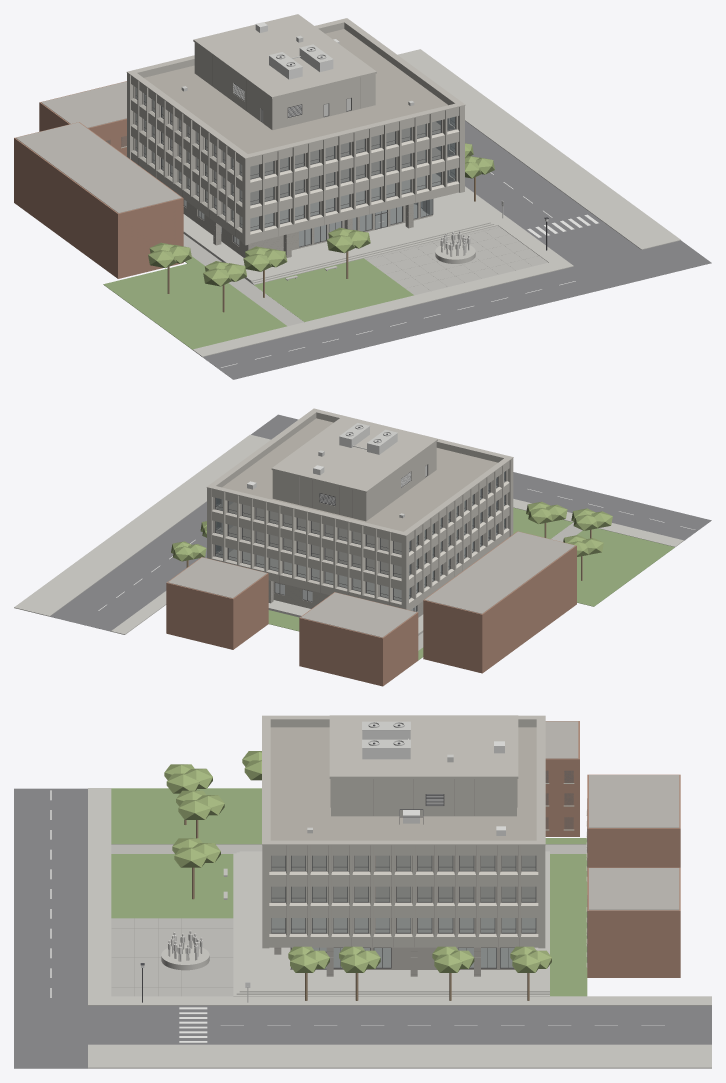
Rendered from clay-calgary-cbe-brutalist-hq-clay-v001.glb.
3 renders of one model, top to bottom at view 1: azimuth 30°, elevation 25°; view 2: azimuth 150°, elevation 25°; view 3: azimuth 270°, elevation 25°, orthographic. The views are drawn at different scales.
Parts seen in each view (by area): view 1: CLAY_PRECAST, CLAY_ASPHALT, CLAY_CONCRETE, CLAY_GRASS, CLAY_NEIGHBOUR, CLAY_ROOF, CLAY_MEMBRANE, CLAY_GLASS, CLAY_PAVING, CLAY_PLANTING, CLAY_FRAME, CLAY_FLOOR (+4 smaller); view 2: CLAY_PRECAST, CLAY_NEIGHBOUR, CLAY_ASPHALT, CLAY_MEMBRANE, CLAY_CONCRETE, CLAY_ROOF, CLAY_GRASS, CLAY_GLASS, CLAY_PLANTING, CLAY_FLOOR, CLAY_FRAME, CLAY_BOARD (+2 smaller); view 3: CLAY_PRECAST, CLAY_ASPHALT, CLAY_CONCRETE, CLAY_GRASS, CLAY_ROOF, CLAY_NEIGHBOUR, CLAY_GLASS, CLAY_MEMBRANE, CLAY_PAVING, CLAY_PLANTING, CLAY_FLOOR, CLAY_FRAME (+6 smaller).
Boxes of the visible parts, bbox=[...] form: CLAY_PRECAST: bbox=[126, 14, 465, 245]; CLAY_ASPHALT: bbox=[202, 121, 711, 379]; CLAY_CONCRETE: bbox=[183, 49, 680, 356]; CLAY_GRASS: bbox=[103, 256, 413, 349]; CLAY_NEIGHBOUR: bbox=[14, 81, 183, 278]; CLAY_ROOF: bbox=[144, 29, 447, 153]; CLAY_MEMBRANE: bbox=[16, 81, 181, 213]; CLAY_GLASS: bbox=[106, 88, 455, 246]; CLAY_PAVING: bbox=[183, 225, 547, 326]; CLAY_PLANTING: bbox=[148, 143, 494, 286]; CLAY_FRAME: bbox=[135, 83, 455, 247]; CLAY_FLOOR: bbox=[145, 101, 440, 203]; CLAY_PRECAST: bbox=[206, 408, 513, 610]; CLAY_NEIGHBOUR: bbox=[166, 531, 576, 686]; CLAY_ASPHALT: bbox=[50, 414, 711, 631]; CLAY_MEMBRANE: bbox=[168, 531, 575, 637]; CLAY_CONCRETE: bbox=[14, 434, 683, 635]; CLAY_ROOF: bbox=[222, 418, 497, 531]; CLAY_GRASS: bbox=[268, 508, 674, 660]; CLAY_GLASS: bbox=[215, 472, 505, 611]; CLAY_PLANTING: bbox=[171, 501, 612, 561]; CLAY_FLOOR: bbox=[229, 484, 496, 576]; CLAY_FRAME: bbox=[215, 464, 505, 611]; CLAY_BOARD: bbox=[268, 580, 423, 617]; CLAY_PRECAST: bbox=[262, 715, 545, 948]; CLAY_ASPHALT: bbox=[14, 788, 711, 1068]; CLAY_CONCRETE: bbox=[88, 788, 711, 1068]; CLAY_GRASS: bbox=[111, 788, 587, 996]; CLAY_ROOF: bbox=[270, 727, 536, 840]; CLAY_NEIGHBOUR: bbox=[545, 721, 680, 977]; CLAY_GLASS: bbox=[271, 770, 587, 968]; CLAY_MEMBRANE: bbox=[545, 721, 679, 910]; CLAY_PAVING: bbox=[111, 844, 586, 996]; CLAY_PLANTING: bbox=[164, 751, 551, 972]; CLAY_FLOOR: bbox=[271, 855, 535, 901]; CLAY_FRAME: bbox=[271, 794, 536, 969].
Size of the model in its own units: 84.9 by 26.32 by 89.55.
